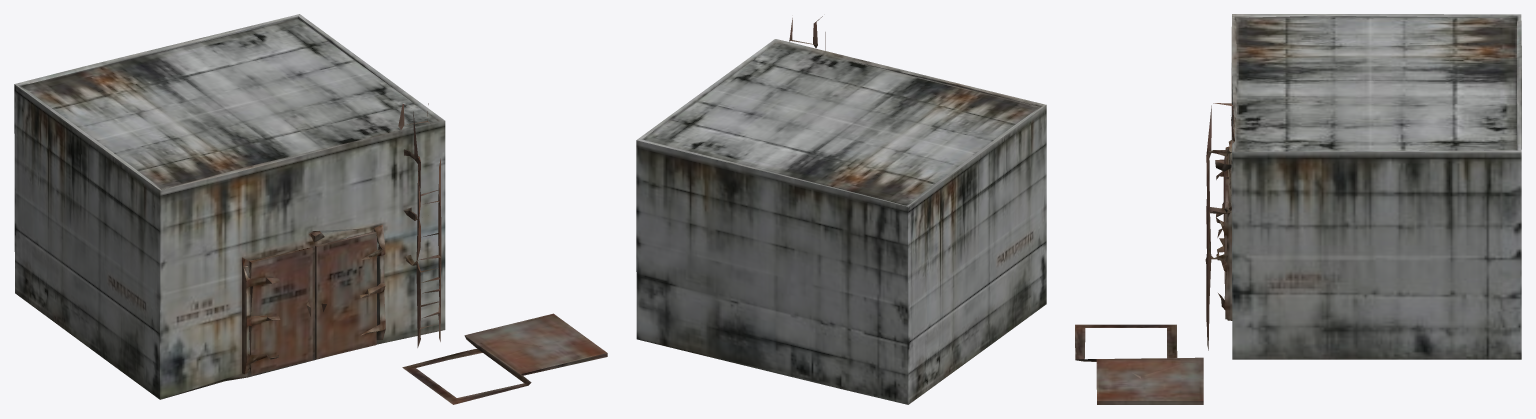
Rendered from duga_hall.glb.
3 renders of one model, left to right at view 1: azimuth 30°, elevation 25°; view 2: azimuth 150°, elevation 25°; view 3: azimuth 270°, elevation 25°, orthographic. The views are drawn at different scales.
Parts seen in each view (by area): view 1: duga_hall; view 2: duga_hall; view 3: duga_hall.
Boxes of the visible parts, <box> form: duga_hall: <box>14,14,607,404</box>; duga_hall: <box>636,16,1046,404</box>; duga_hall: <box>1075,14,1521,404</box>.
Bounding box in the file's own units: 1.85 × 1.11 × 1.9.
Materials: 1 (1 with a texture image).
